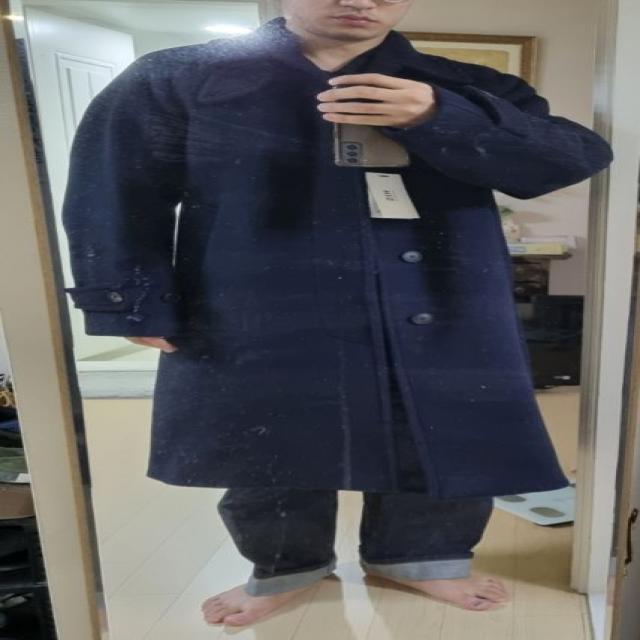coat: (62, 15, 615, 499)
denimpants: (215, 484, 492, 593)
